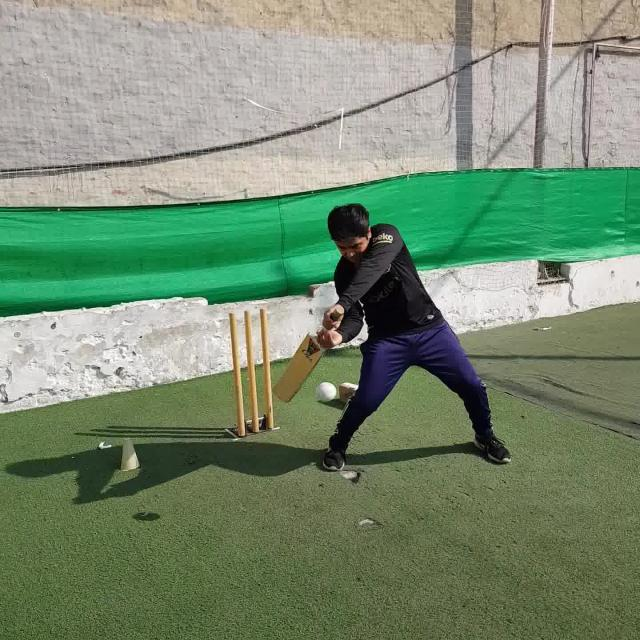ball: (317, 382, 338, 403)
bat: (272, 306, 343, 402)
